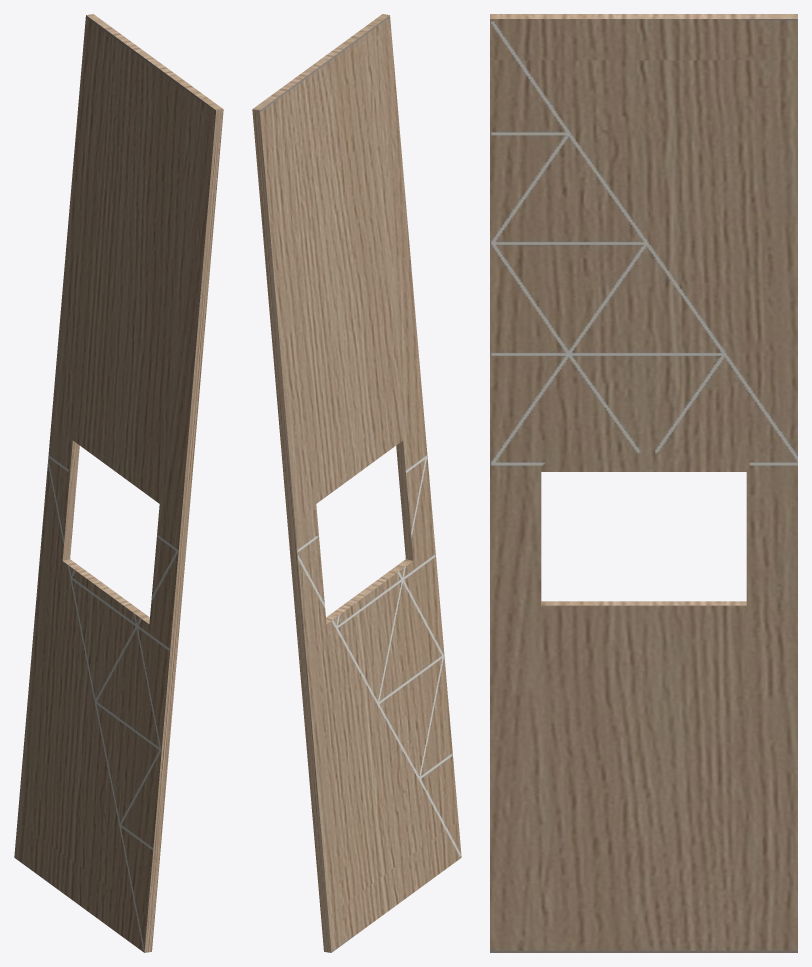
Rendered from AITHOUSA I_a_part6.fbx.
3 renders of one model, left to right at view 1: azimuth 30°, elevation 25°; view 2: azimuth 150°, elevation 25°; view 3: azimuth 270°, elevation 25°, orthographic. The views are drawn at different scales.
Parts seen in each view (by area): view 1: Mass Element <Standard> Body; view 2: Mass Element <Standard> Body; view 3: Mass Element <Standard> Body.
Boxes of the visible parts, <box> form: Mass Element <Standard> Body: <box>14,14,223,952</box>; Mass Element <Standard> Body: <box>252,14,461,952</box>; Mass Element <Standard> Body: <box>490,14,797,952</box>.
Size of the model in its own units: 0.2106 by 2.1 by 0.6.
1 material, 1 textured.
